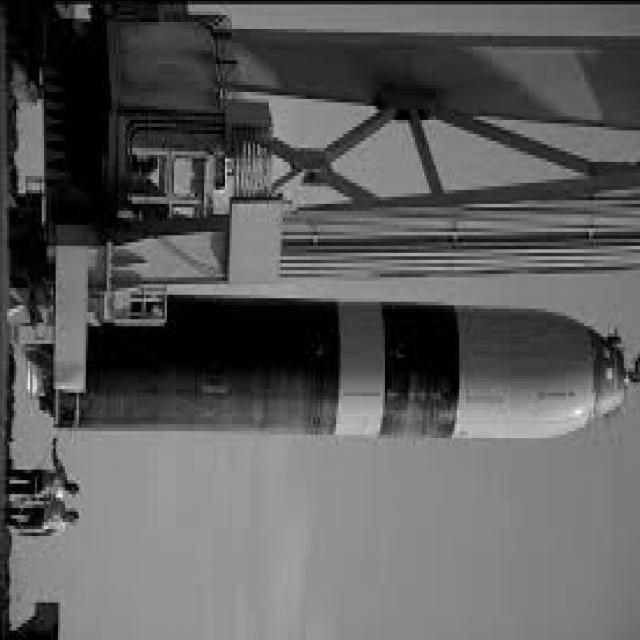Missile: (71, 292, 640, 442)
